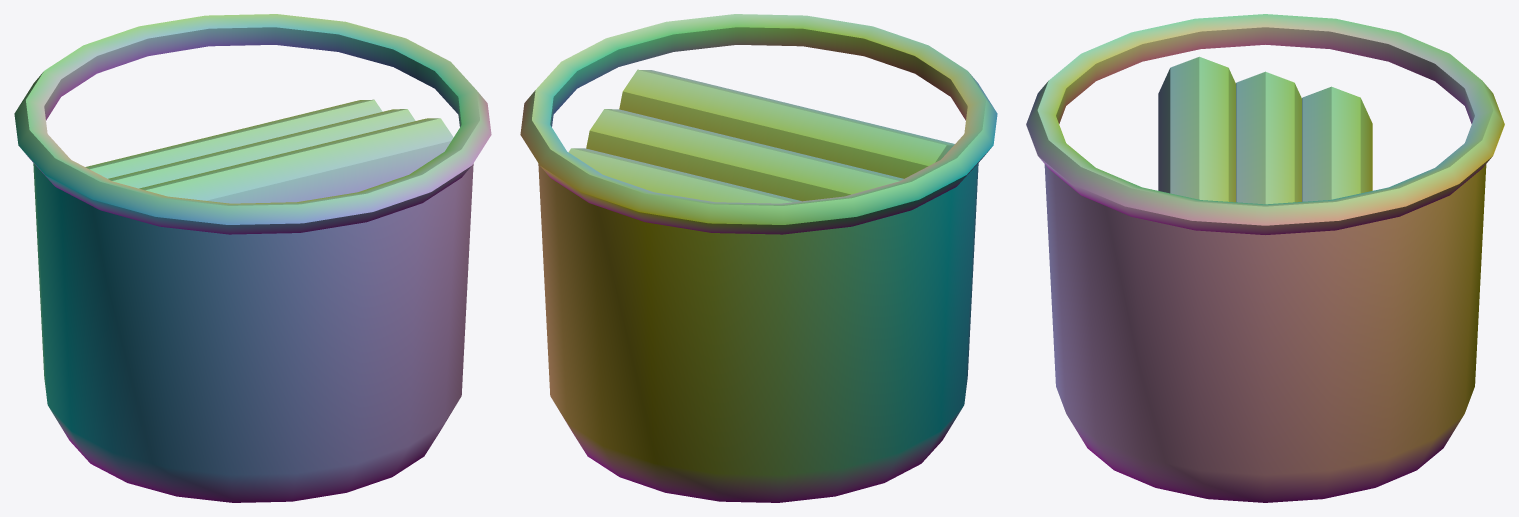
File: log_basket.glb
3 renders of one model, left to right at view 1: azimuth 30°, elevation 25°; view 2: azimuth 150°, elevation 25°; view 3: azimuth 270°, elevation 25°, orthographic.
Visible parts, largest first — view 1: parlour_log_basket; view 2: parlour_log_basket; view 3: parlour_log_basket.
Part boxes in pixels (x1,y1,x2,y2): parlour_log_basket: (14, 14, 491, 502); parlour_log_basket: (520, 14, 997, 502); parlour_log_basket: (1026, 14, 1504, 502).
Bounding box in the file's own units: 0.58 × 0.419 × 0.58.
